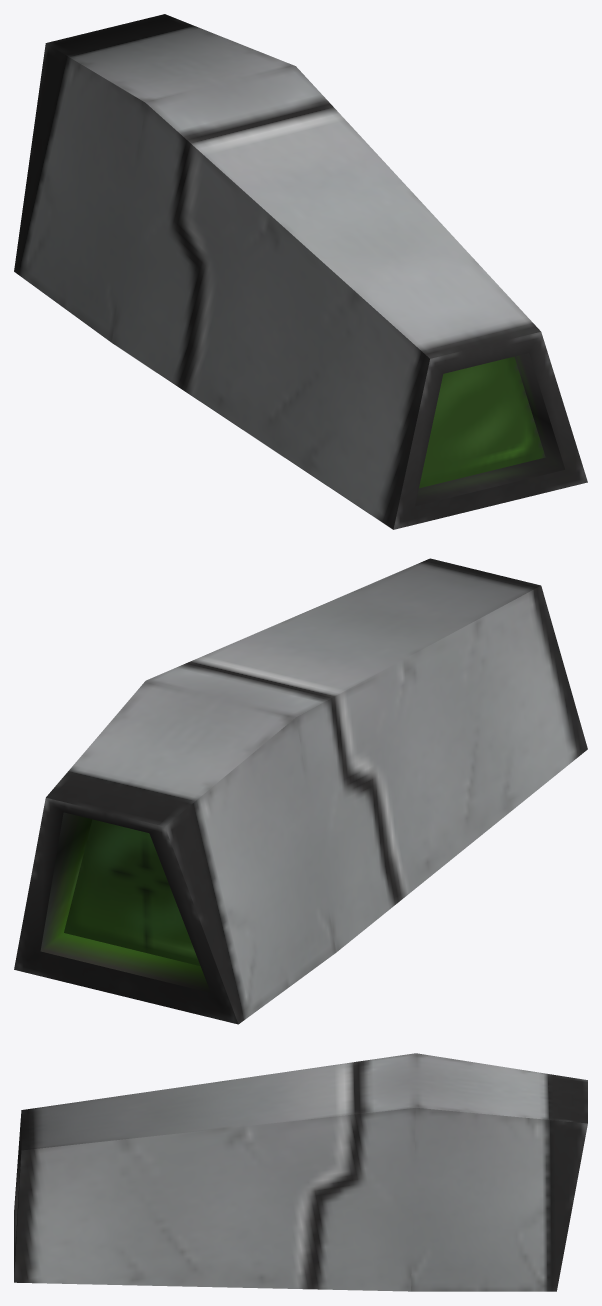
The model's file is sniper_scope.obj.
3 views of the same model, one above another, from view 1: azimuth 30°, elevation 25°; view 2: azimuth 150°, elevation 25°; view 3: azimuth 270°, elevation 25° (orthographic). The views are drawn at different scales.
Visible parts, largest first — view 1: sniper_scope; view 2: sniper_scope, sniper_scope_window; view 3: sniper_scope.
Boxes of the visible parts, left/top/right/bottom form: sniper_scope: left=14, top=14, right=587, bottom=529; sniper_scope: left=14, top=558, right=587, bottom=1024; sniper_scope_window: left=64, top=819, right=200, bottom=965; sniper_scope: left=14, top=1053, right=587, bottom=1291.
Size of the model in its own units: 0.078 by 0.0814 by 0.2319.
